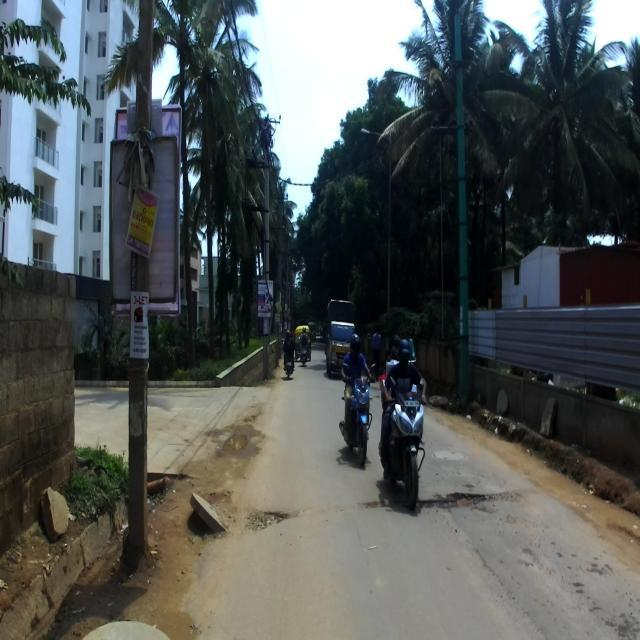pothole: (230, 457, 328, 577), (425, 448, 511, 560), (534, 542, 632, 640)
